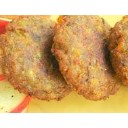cutlet: (3, 17, 64, 103), (56, 17, 113, 102)
